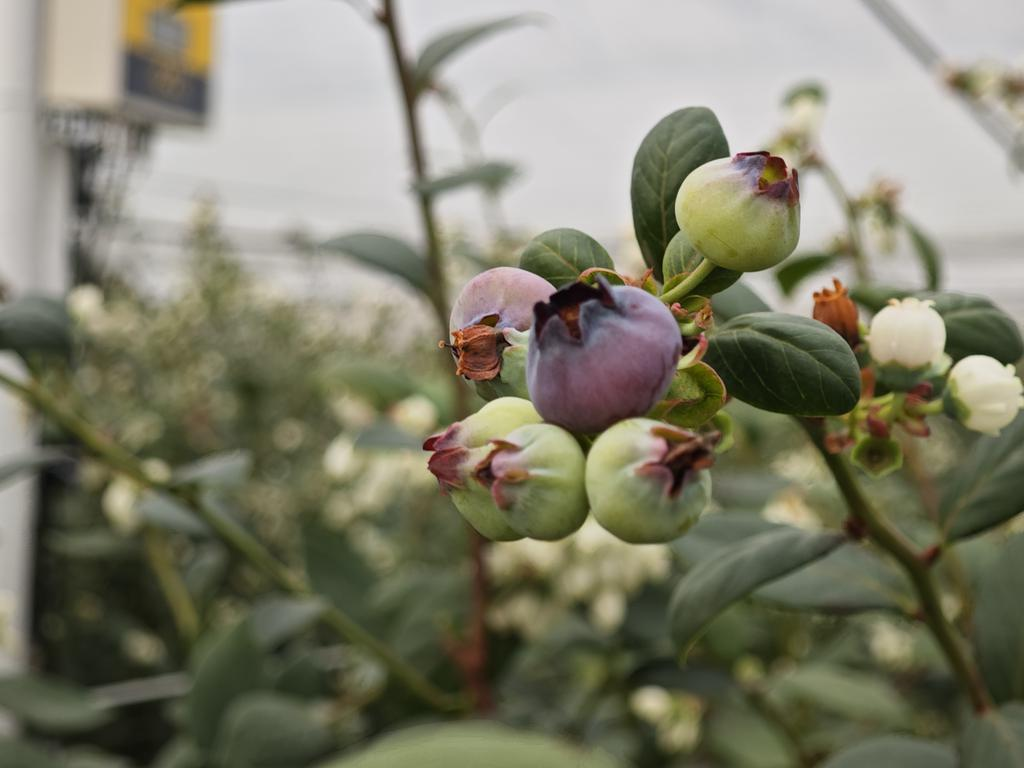Semi-RipeBlueBerry: (523, 277, 684, 431)
UnripeBlueBerry: (585, 414, 712, 546), (674, 148, 804, 273)
